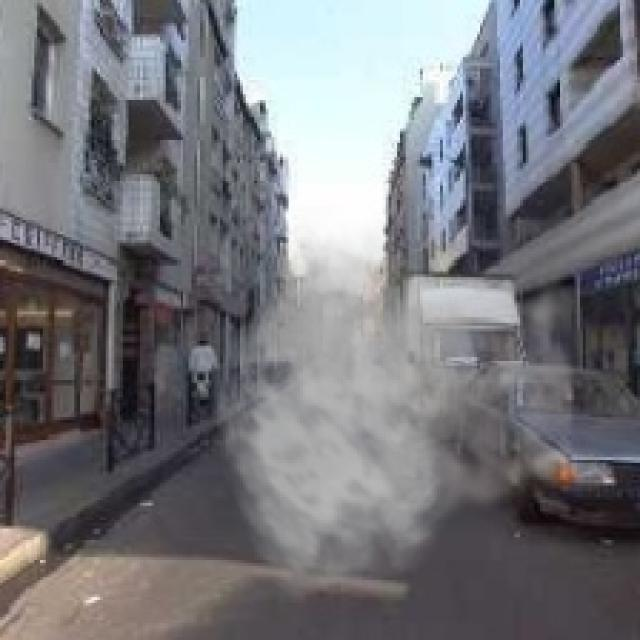Smoke: (214, 206, 612, 603)
